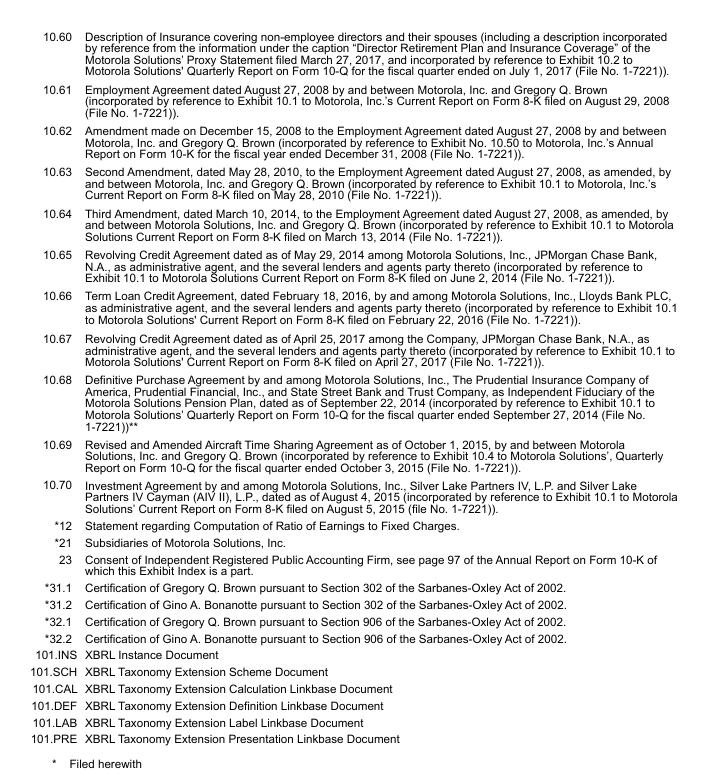table: (29, 29, 676, 744)
table column: (80, 29, 676, 744), (29, 29, 80, 744)
table row: (29, 370, 676, 434), (29, 29, 676, 79), (29, 120, 676, 162), (29, 244, 676, 286), (29, 286, 676, 328), (29, 328, 676, 370), (29, 79, 676, 120), (29, 162, 676, 203), (29, 203, 676, 244), (29, 434, 676, 475), (29, 475, 676, 516), (29, 550, 676, 578), (29, 516, 676, 533), (29, 533, 676, 550), (29, 578, 676, 595), (29, 595, 676, 612), (29, 612, 676, 629), (29, 645, 676, 662), (29, 662, 676, 679), (29, 679, 676, 696), (29, 696, 676, 713), (29, 629, 676, 645), (29, 713, 676, 729), (29, 729, 676, 744)
